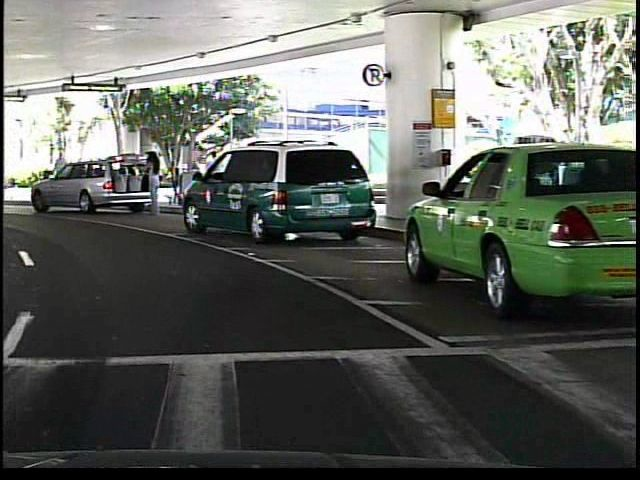person: (141, 145, 160, 221), (45, 148, 70, 200), (159, 154, 181, 212)
